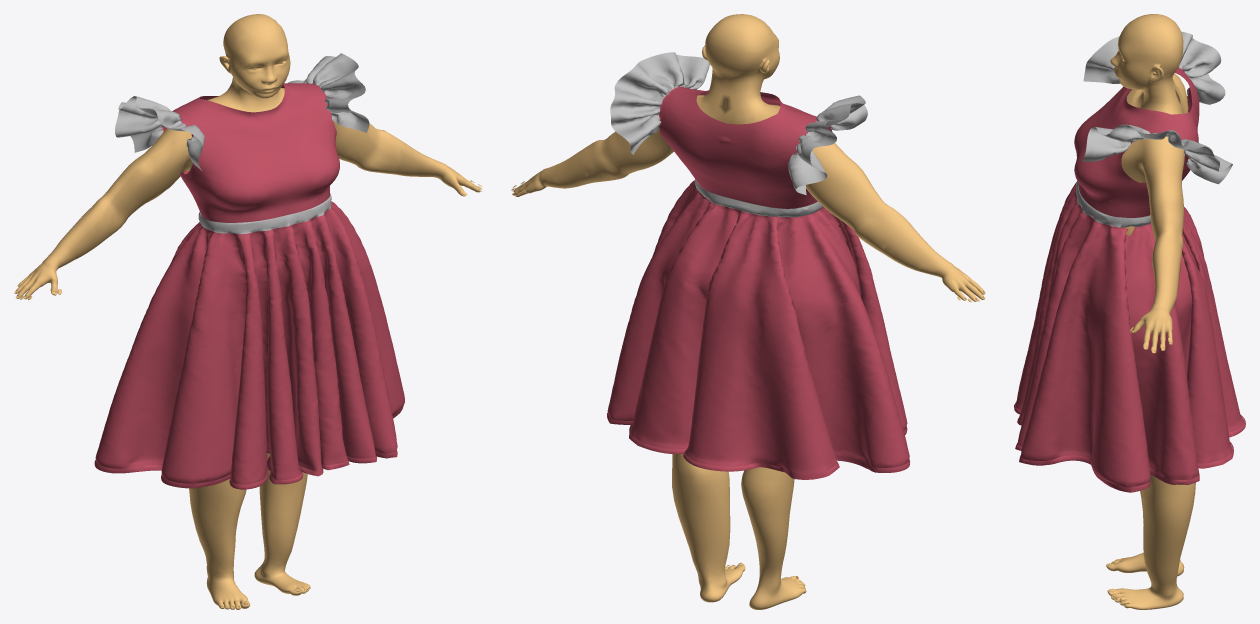
File: dress4.glb
3 views of the same model, side by side, from view 1: azimuth 30°, elevation 25°; view 2: azimuth 150°, elevation 25°; view 3: azimuth 270°, elevation 25° (orthographic).
Parts seen in each view (by area): view 1: PinkDrees#14 (OBJ), Body; view 2: PinkDrees#14 (OBJ), Body; view 3: PinkDrees#14 (OBJ), Body.
Part boxes in pixels (bbox=[...]): PinkDrees#14 (OBJ): bbox=[94, 53, 404, 489]; Body: bbox=[14, 14, 481, 609]; PinkDrees#14 (OBJ): bbox=[607, 52, 910, 479]; Body: bbox=[512, 14, 985, 609]; PinkDrees#14 (OBJ): bbox=[1014, 31, 1245, 492]; Body: bbox=[1106, 14, 1195, 609].
Bounding box in the file's own units: 1.59 × 1.88 × 0.6849.
